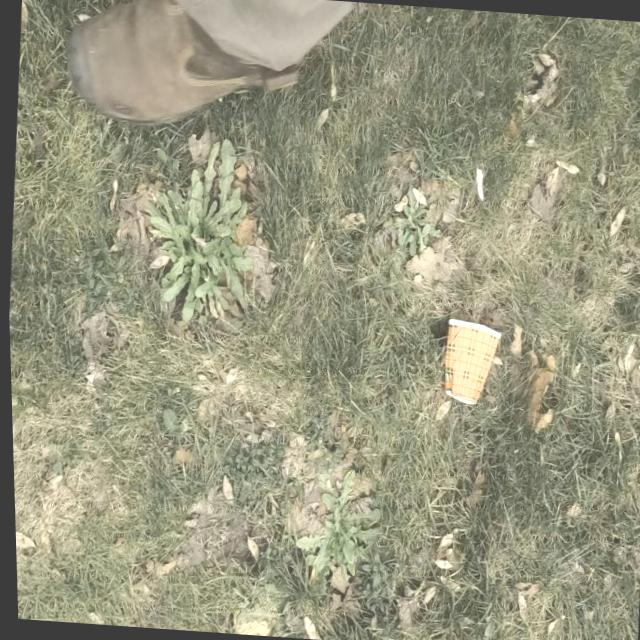Cup: (438, 318, 497, 406)
